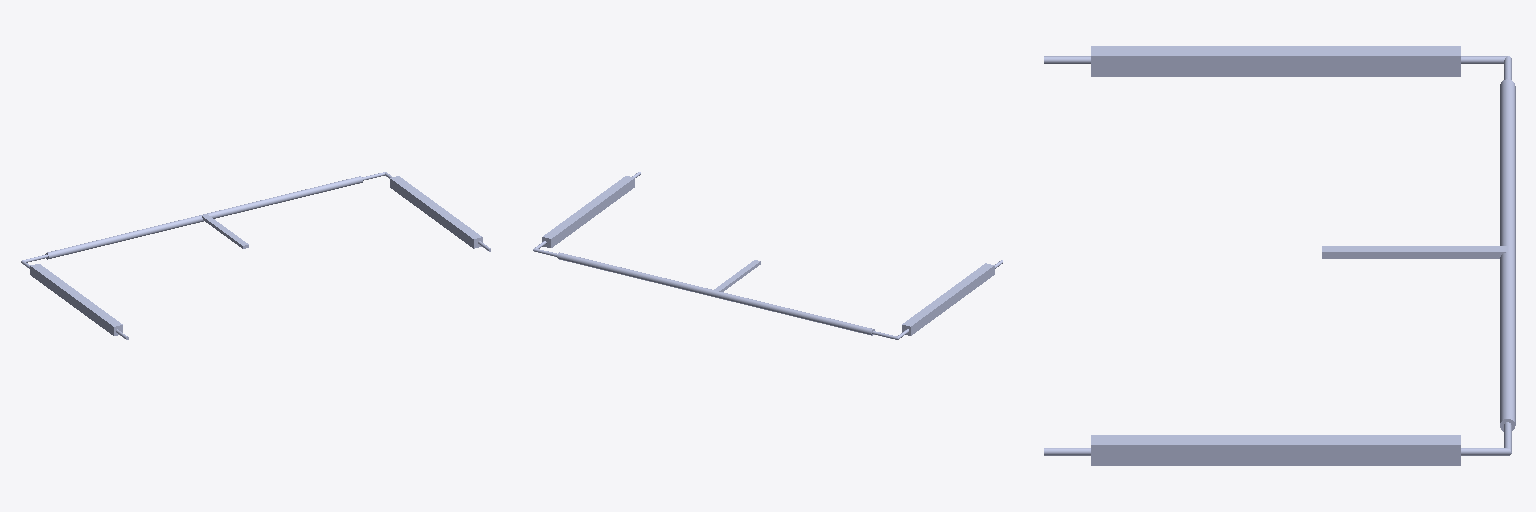
URDF robot description (Gate):
<?xml version="1.0" encoding="utf-8"?>
<!-- This URDF was automatically created by SolidWorks to URDF Exporter! Originally created by [author] ([email redacted]) 
     Commit Version: 1.6.0-4-g7f85cfe  Build Version: 1.6.7995.38578
     For more information, please see http://wiki.ros.org/sw_urdf_exporter -->
<robot
  name="Gate">
  <link
    name="base_link">
    <inertial>
      <origin
        xyz="-4.61494760954857E-05 0.0614343033656225 0.000453916572084546"
        rpy="0 0 0" />
      <mass
        value="21.4071309598792" />
      <inertia
        ixx="3.26785626306042"
        ixy="-2.97405270378902"
        ixz="4.02122745147932E-06"
        iyy="21.8693046189252"
        iyz="-0.00125572503303462"
        izz="25.1213241369472" />
    </inertial>
    <visual>
      <origin
        xyz="0 0 0"
        rpy="0 0 0" />
      <geometry>
        <mesh
          filename="package://gate_description/meshes/gate.dae" />
      </geometry>
      <material
        name="">
        <color
          rgba="0.792156862745098 0.819607843137255 0.933333333333333 1" />
      </material>
    </visual>
    <collision>
      <origin
        xyz="0 0 0"
        rpy="0 0 0" />
      <geometry>
        <mesh
          filename="package://gate_description/meshes/gate.dae" />
      </geometry>
    </collision>
  </link>
  
  
  <!-- Additional gazebo properties for the entire robot -->
  <gazebo>
    <static>true</static>
  </gazebo>
</robot>

--- What the picture shows (computed from the rendered views, not written in the file) ---
3 views of the same robot in one strip: view 1: azimuth 30°, elevation 25°; view 2: azimuth 150°, elevation 25°; view 3: azimuth 270°, elevation 25° (orthographic).
Robot: Gate — 1 links, 0 joints (none); root link base_link; default pose: every joint at zero.
Visible links, largest first — view 1: base_link; view 2: base_link; view 3: base_link.
Boxes of the visible links, left/top/right/bottom form: base_link: left=21, top=172, right=490, bottom=339; base_link: left=533, top=172, right=1002, bottom=339; base_link: left=1044, top=46, right=1515, bottom=465.
Bounding box of the posed robot: 3.1 × 1.55 × 0.0762 m (x, y, z).
1 mesh visuals loaded from 1 distinct referenced files (1 Collada DAE).